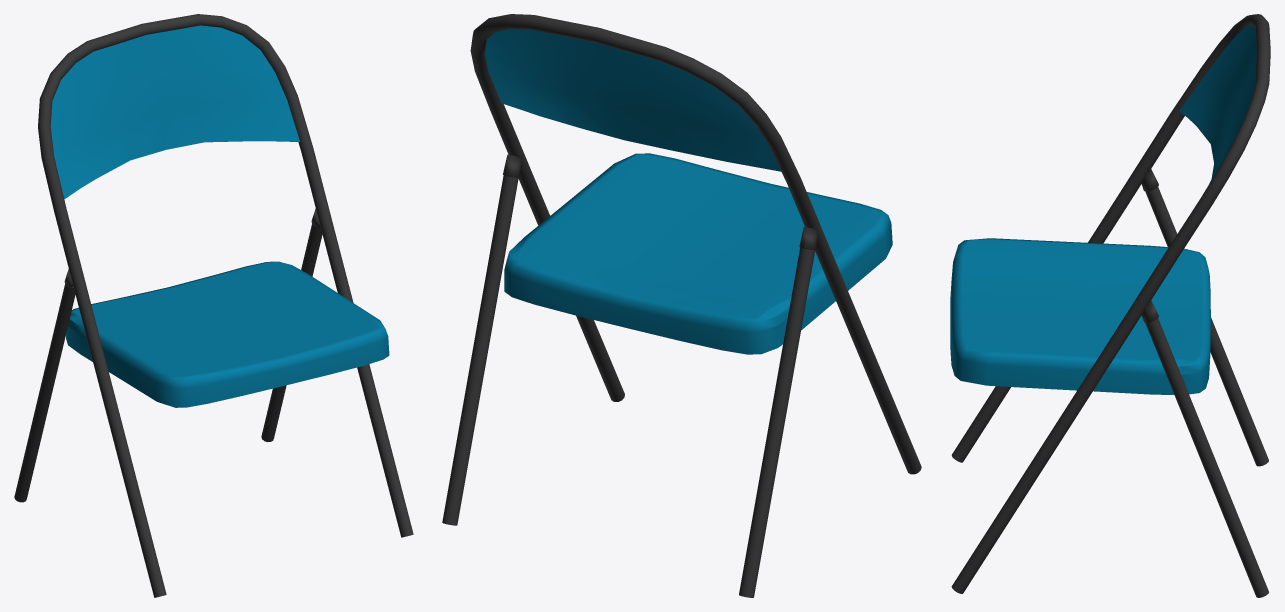
The model's file is ghe.fbx.
3 renders of one model, left to right at view 1: azimuth 30°, elevation 25°; view 2: azimuth 150°, elevation 25°; view 3: azimuth 270°, elevation 25°, orthographic. The views are drawn at different scales.
Visible parts, largest first — view 1: bacsi_facerig:pasted__pasted__foldingchair_open; view 2: bacsi_facerig:pasted__pasted__foldingchair_open; view 3: bacsi_facerig:pasted__pasted__foldingchair_open.
Boxes of the visible parts, x1,y1,x2,y2 form: bacsi_facerig:pasted__pasted__foldingchair_open: (14,14,413,597); bacsi_facerig:pasted__pasted__foldingchair_open: (442,14,921,597); bacsi_facerig:pasted__pasted__foldingchair_open: (950,14,1270,597).
Size of the model in its own units: 24.08 by 39.54 by 23.65.
